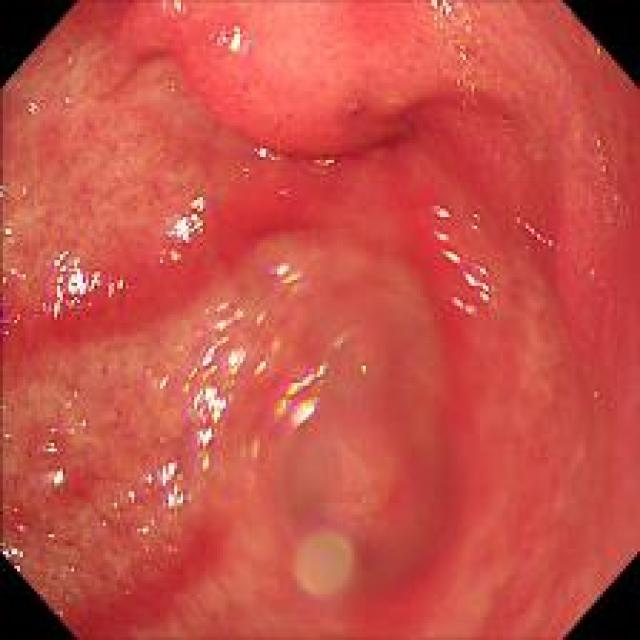blur: (221, 120, 598, 572)
color misalignment: (424, 191, 499, 319), (191, 319, 248, 472), (40, 249, 130, 315), (105, 465, 190, 520), (276, 362, 325, 428), (515, 216, 558, 255), (270, 260, 306, 295), (248, 142, 280, 164), (44, 469, 68, 485)
specularity: (421, 191, 501, 321), (191, 319, 250, 475), (102, 464, 199, 534), (431, 2, 488, 115), (38, 248, 128, 318), (0, 176, 29, 354), (161, 191, 215, 269), (278, 360, 331, 434), (39, 381, 82, 444), (210, 9, 256, 64), (511, 214, 559, 260), (38, 461, 71, 501), (269, 261, 305, 295), (246, 140, 284, 170), (304, 148, 341, 171), (0, 541, 24, 574), (19, 92, 42, 124), (240, 438, 264, 464), (151, 375, 172, 394), (252, 359, 270, 378), (251, 310, 270, 328), (14, 524, 26, 538)
